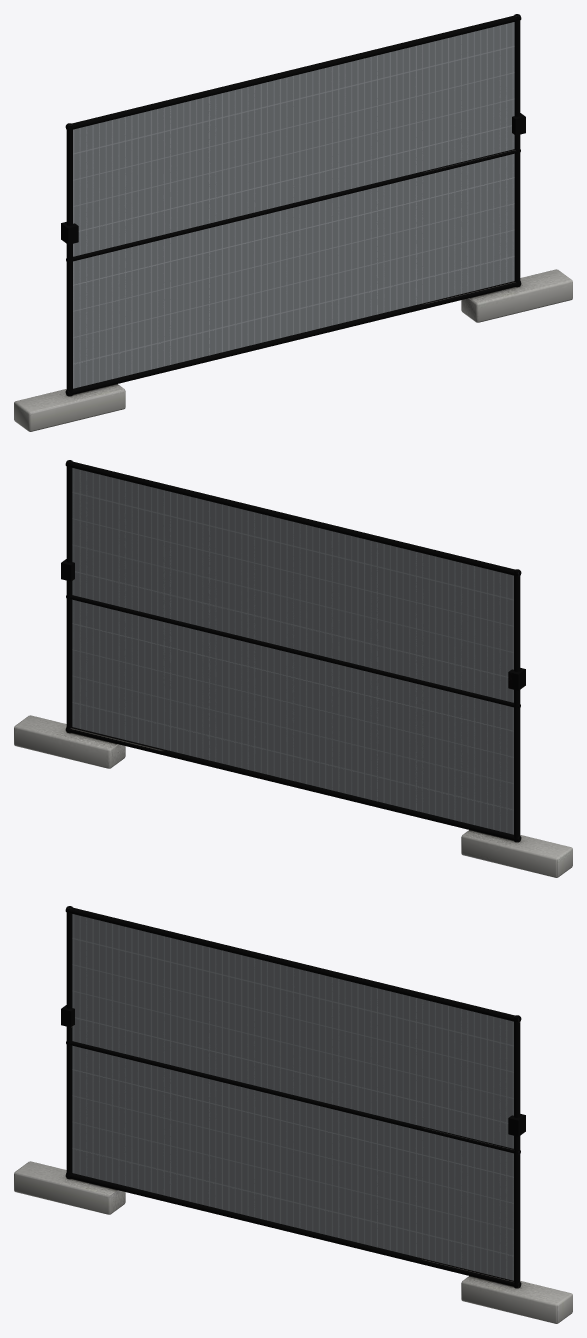
File: fence.glb
3 views of the same model, one above another, from view 1: azimuth 30°, elevation 25°; view 2: azimuth 150°, elevation 25°; view 3: azimuth 330°, elevation 25° (orthographic).
Visible parts, largest first — view 1: mesh, bottom; view 2: mesh, bottom; view 3: mesh, bottom.
Part boxes in pixels (x1=…): mesh: x1=73, y1=22, x2=514, y2=388; bottom: x1=14, y1=14, x2=572, y2=431; mesh: x1=72, y1=468, x2=513, y2=834; bottom: x1=14, y1=460, x2=572, y2=877; mesh: x1=72, y1=914, x2=513, y2=1280; bottom: x1=14, y1=906, x2=572, y2=1323.
Bounding box in the file's own units: 4.21 × 2.15 × 0.22.
Materials: 2 (2 with a texture image).
